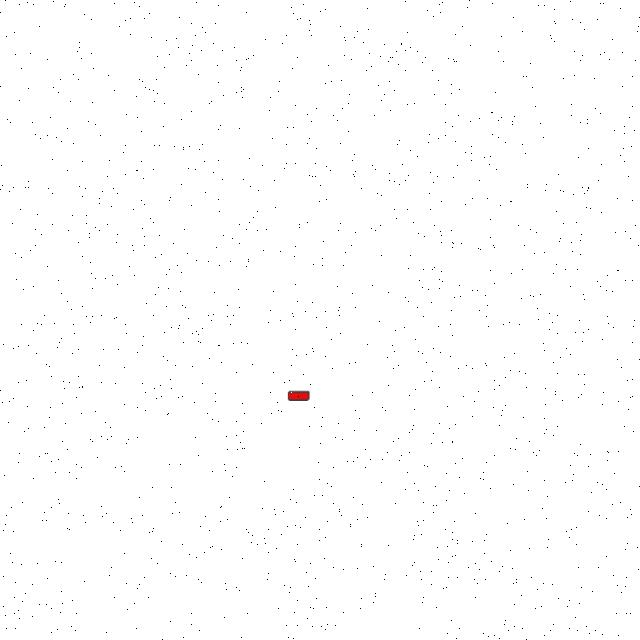3070b: (284, 389, 314, 405)
